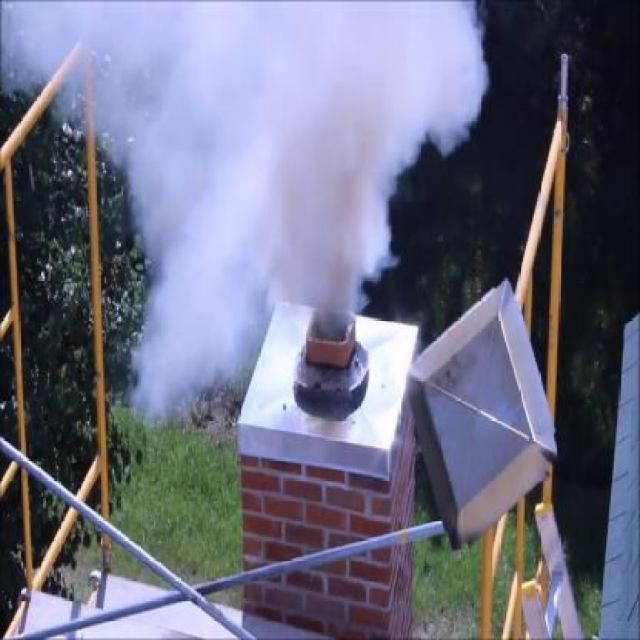Smoke: (0, 0, 493, 428)
